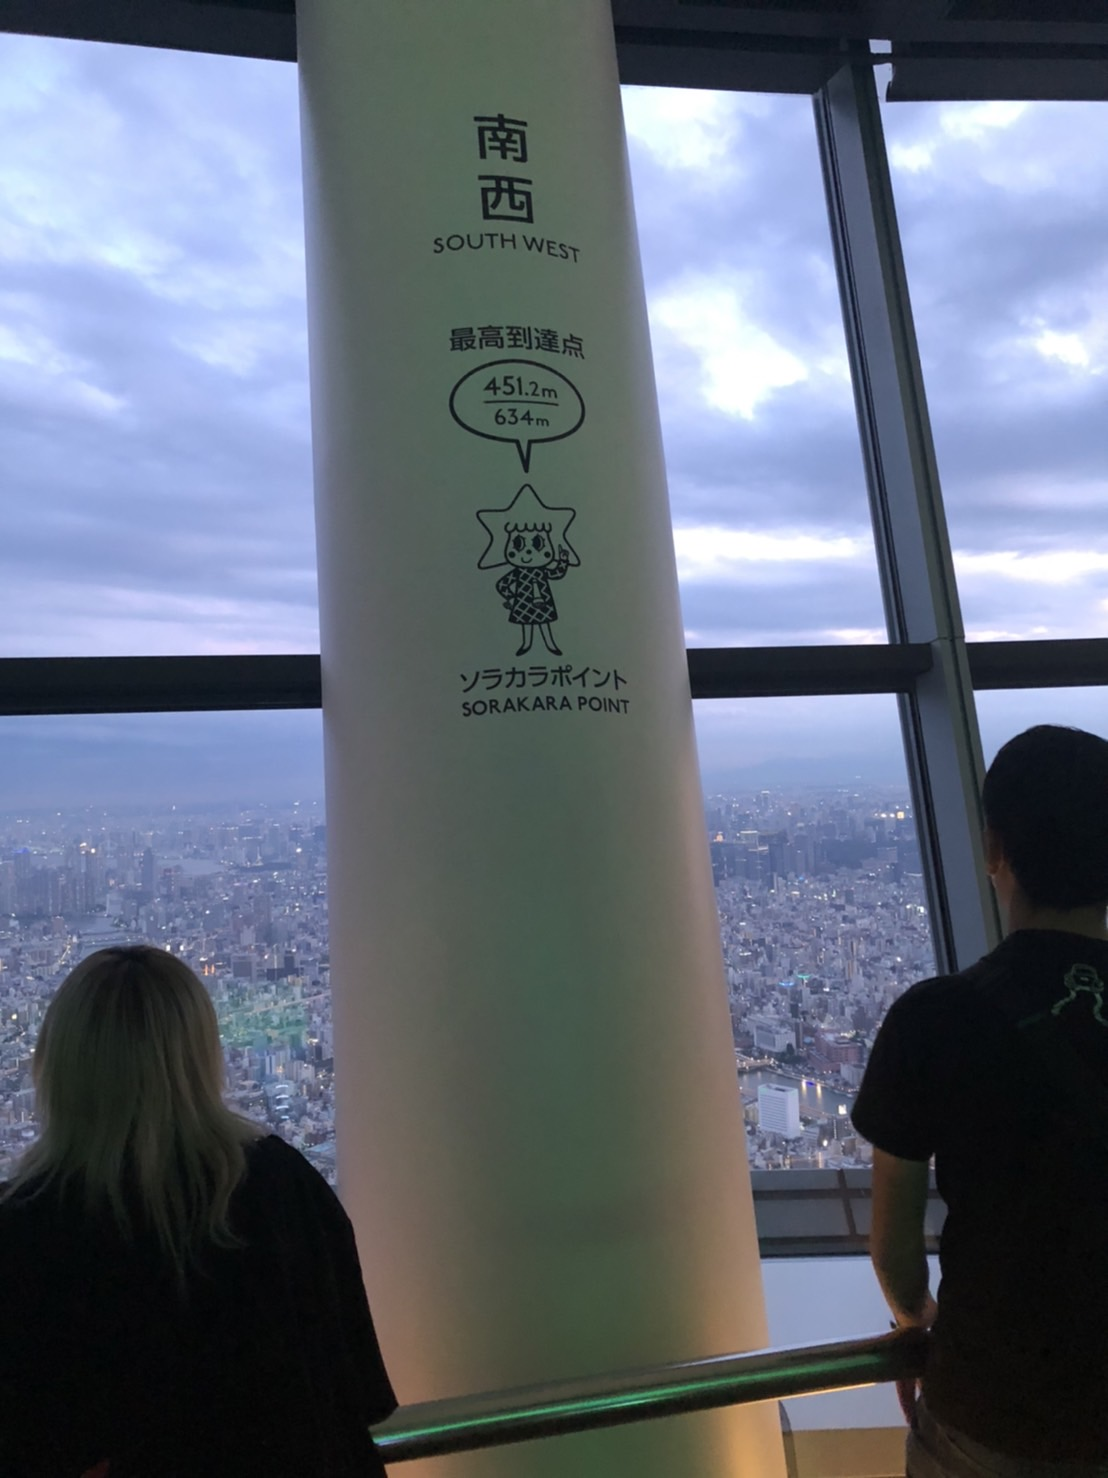female: (1, 945, 388, 1478)
male: (865, 718, 1108, 1478)
